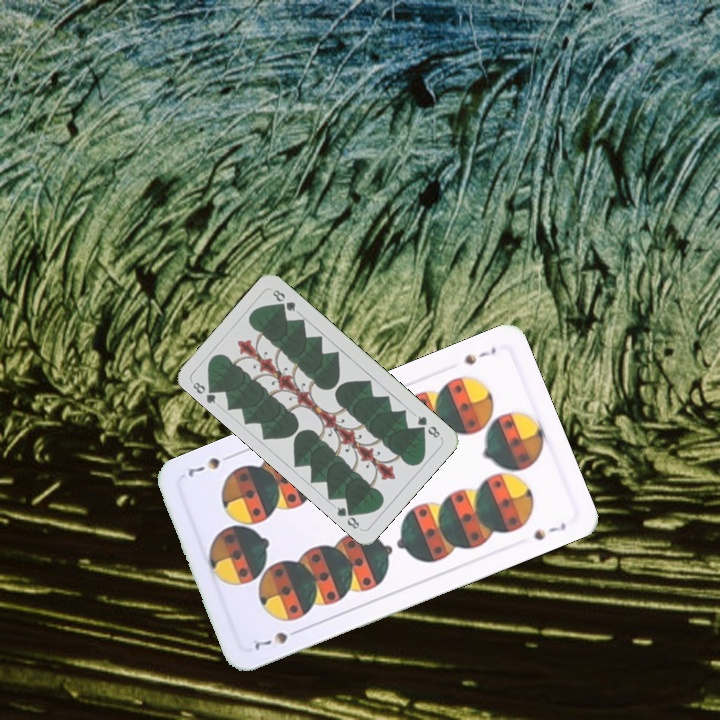G8: (413, 411, 443, 441), (189, 378, 220, 407)
S7: (250, 624, 304, 653), (460, 342, 499, 368)
